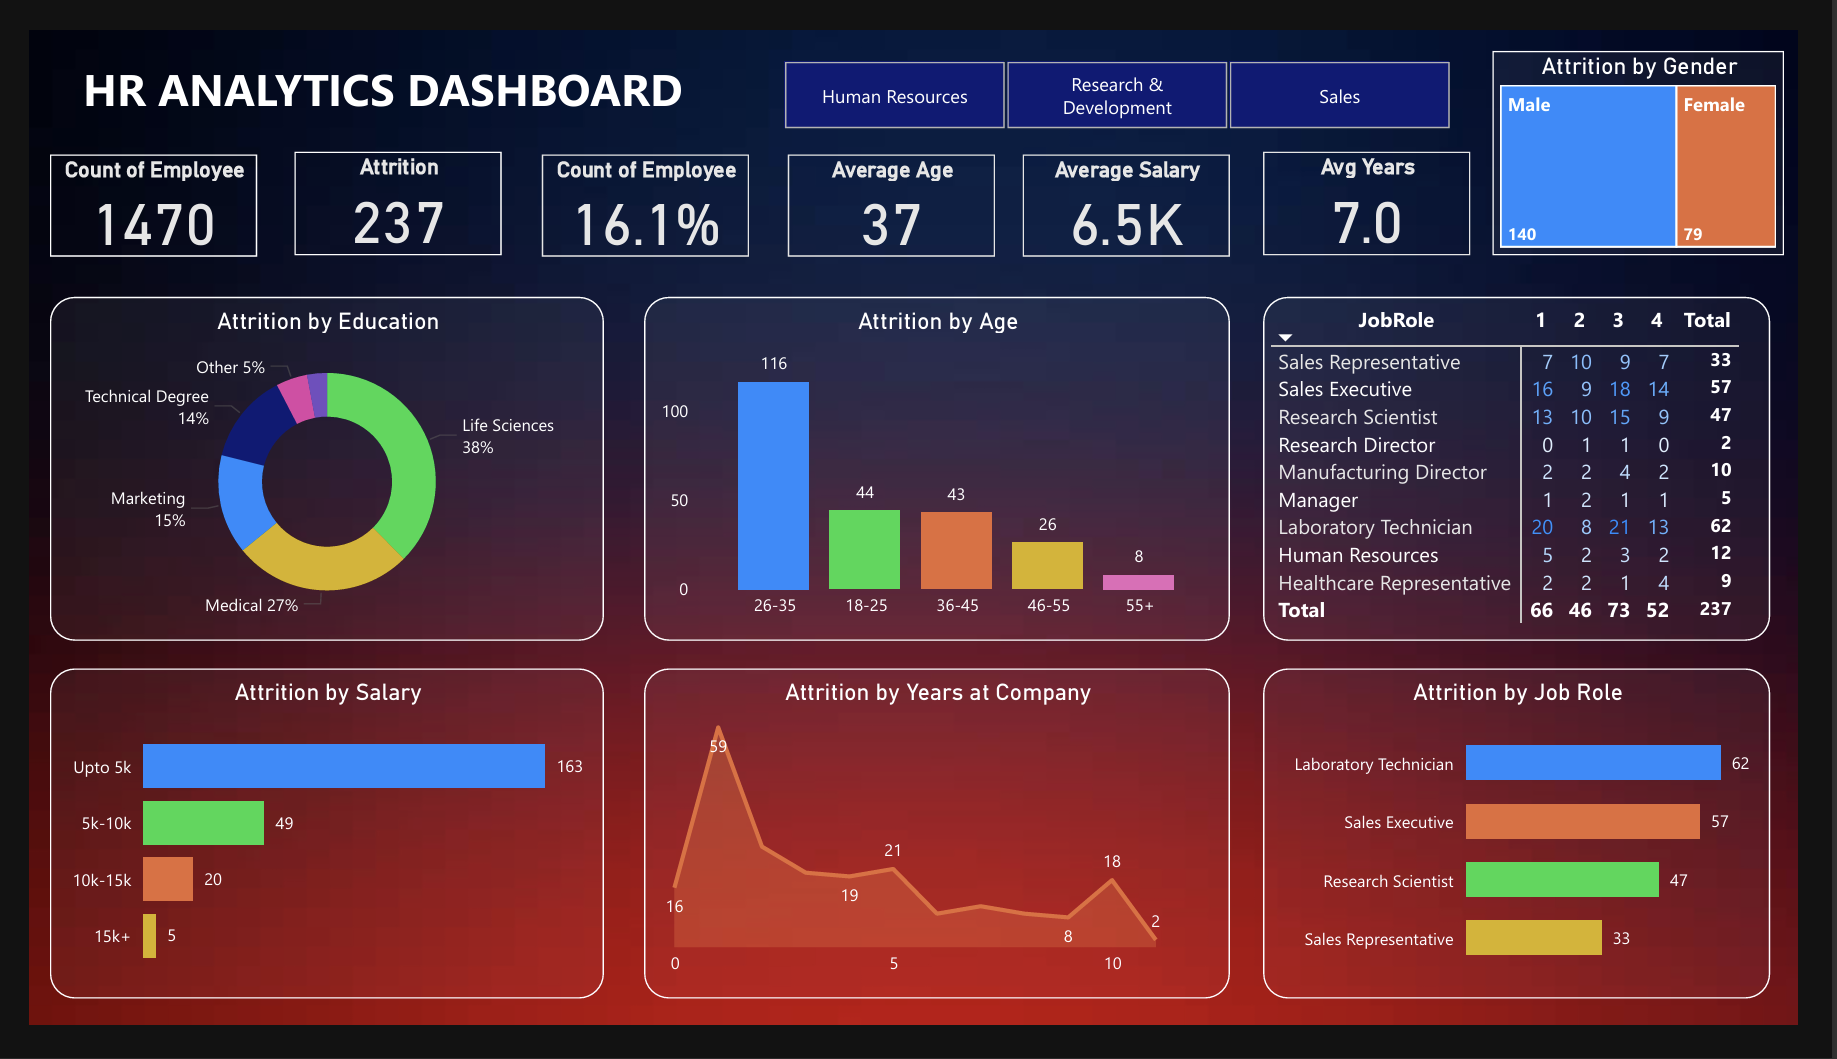

What the dashboard file says about the page in this screenshot:
{"tool":"powerbi","page":{"name":"Page 1","canvas":[1280,720],"ordinal":0},"visuals":[{"type":"card","title":"Count of Employee","fields":{"Values":["CountNonNull(HR_Analytics.EmpID)"]},"box":[15.1,89.5,150,74.4],"z":0},{"type":"card","title":"Average Age","fields":{"Values":["Avg(HR_Analytics.Age)"]},"box":[548.8,89.5,150,74.4],"z":1000},{"type":"card","title":"Attrition","fields":{"Values":["Sum(HR_Analytics.AttritionCount)"]},"box":[191.9,88.4,150,74.4],"z":2000},{"type":"card","title":"Count of Employee","fields":{"Values":["HR_Analytics.AttritionRate"]},"box":[370.9,89.5,150,74.4],"z":3000},{"type":"card","title":"Average Salary","fields":{"Values":["Avg(HR_Analytics.MonthlyIncome)"]},"box":[718.6,89.5,150,74.4],"z":4000},{"type":"card","title":"Avg Years","fields":{"Values":["Avg(HR_Analytics.YearsAtCompany)"]},"box":[893,88.4,150,74.4],"z":5000},{"type":"donutChart","title":"Attrition by Education","fields":{"Category":["HR_Analytics.EducationField"],"Y":["Sum(HR_Analytics.AttritionCount)"]},"box":[15.1,193,401.2,248.8],"z":6000},{"type":"columnChart","title":"Attrition by Age","fields":{"Category":["HR_Analytics.AgeGroup"],"Y":["Sum(HR_Analytics.AttritionCount)"]},"box":[445.4,193,423.3,248.8],"z":7000},{"type":"pivotTable","title":"Attrition by Job","fields":{"Rows":["HR_Analytics.JobRole"],"Columns":["HR_Analytics.JobSatisfaction"],"Values":["Sum(HR_Analytics.AttritionCount)"]},"box":[893,193,367.4,248.8],"z":8000},{"type":"barChart","title":"Attrition by Salary","fields":{"Category":["HR_Analytics.SalarySlab"],"Y":["Sum(HR_Analytics.AttritionCount)"]},"box":[15.1,461.6,401.2,239.5],"z":9000},{"type":"clusteredBarChart","title":"Attrition by Job Role","fields":{"Category":["HR_Analytics.JobRole"],"Y":["Sum(HR_Analytics.AttritionCount)"]},"box":[893,461.6,367.4,239.5],"z":10000},{"type":"areaChart","title":"Attrition by Years at Company","fields":{"Category":["HR_Analytics.YearsAtCompany"],"Y":["Sum(HR_Analytics.AttritionCount)"]},"box":[445.4,461.6,423.3,239.5],"z":11000},{"type":"treemap","title":"Attrition by Gender","fields":{"Values":["Sum(HR_Analytics.AttritionCount)"],"Group":["HR_Analytics.Gender"]},"box":[1059.3,15.1,210.5,147.7],"z":12000},{"type":"slicer","fields":{"Values":["HR_Analytics.Department"]},"box":[520.9,16.3,531.4,61.6],"z":13000},{"type":"textbox","box":[0,15.1,511.6,61.6],"z":14000}]}

Visuals, with their boxes in screenshot pixels (x1, y1, x2, y2), scaled from the page's 1280x720 canvas onto the 1837x1059 screenshot:
"Count of Employee" card: box(22, 132, 237, 241)
"Average Age" card: box(788, 132, 1003, 241)
"Attrition" card: box(275, 130, 491, 239)
"Count of Employee" card: box(532, 132, 748, 241)
"Average Salary" card: box(1031, 132, 1247, 241)
"Avg Years" card: box(1282, 130, 1497, 239)
"Attrition by Education" donutChart: box(22, 284, 597, 650)
"Attrition by Age" columnChart: box(639, 284, 1247, 650)
"Attrition by Job" pivotTable: box(1282, 284, 1809, 650)
"Attrition by Salary" barChart: box(22, 679, 597, 1031)
"Attrition by Job Role" clusteredBarChart: box(1282, 679, 1809, 1031)
"Attrition by Years at Company" areaChart: box(639, 679, 1247, 1031)
"Attrition by Gender" treemap: box(1520, 22, 1822, 239)
slicer - HR_Analytics.Department: box(748, 24, 1510, 115)
textbox: box(0, 22, 734, 113)
